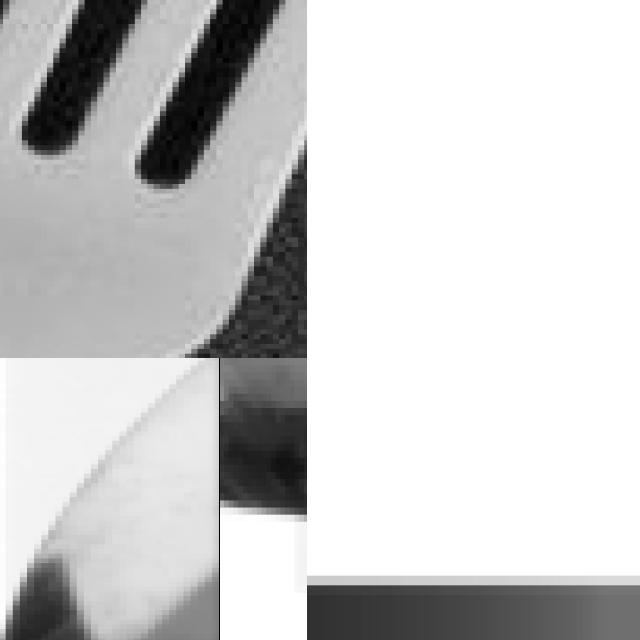forks: (0, 0, 307, 358)
spoons: (0, 358, 286, 640)
